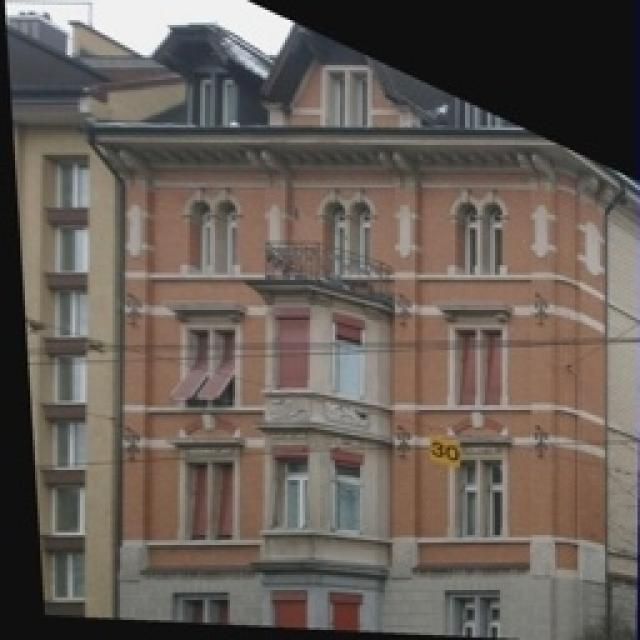building: (132, 0, 640, 640)
